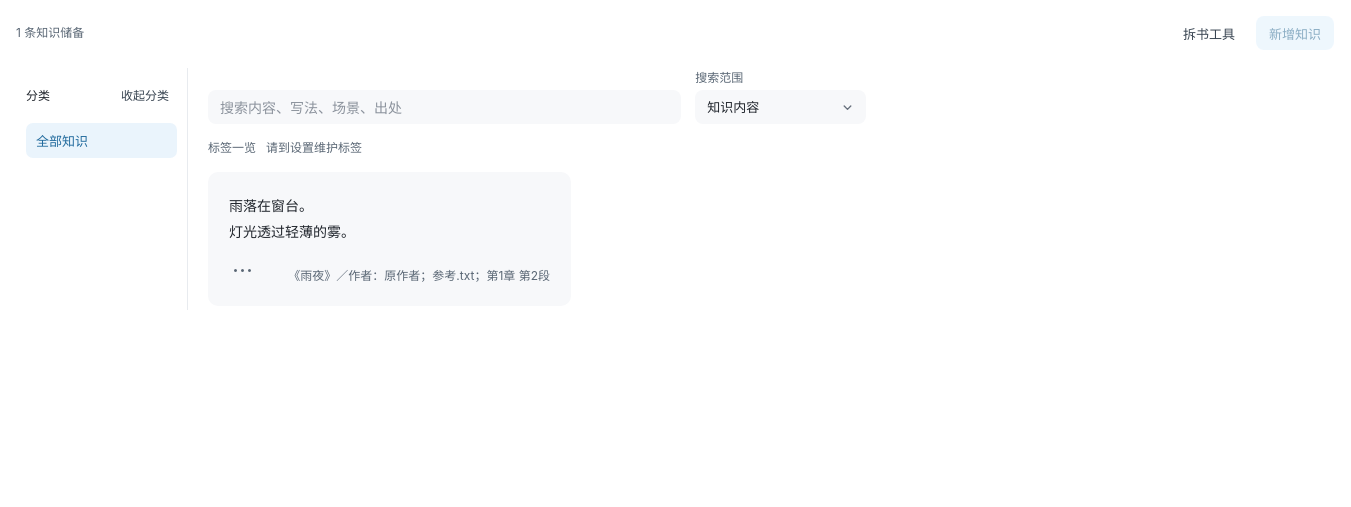
Test: 长出处默认简洁、校验信息展开后完整呈现，操作区保留不压缩及换行规则
Check: the text "《雨夜》／作者：原作者；参考.txt；第1章 第2段" is shown, box [269, 266, 550, 285]
Click the button with aria-label "展开知识".
click(271, 206)  # box [229, 193, 550, 245]
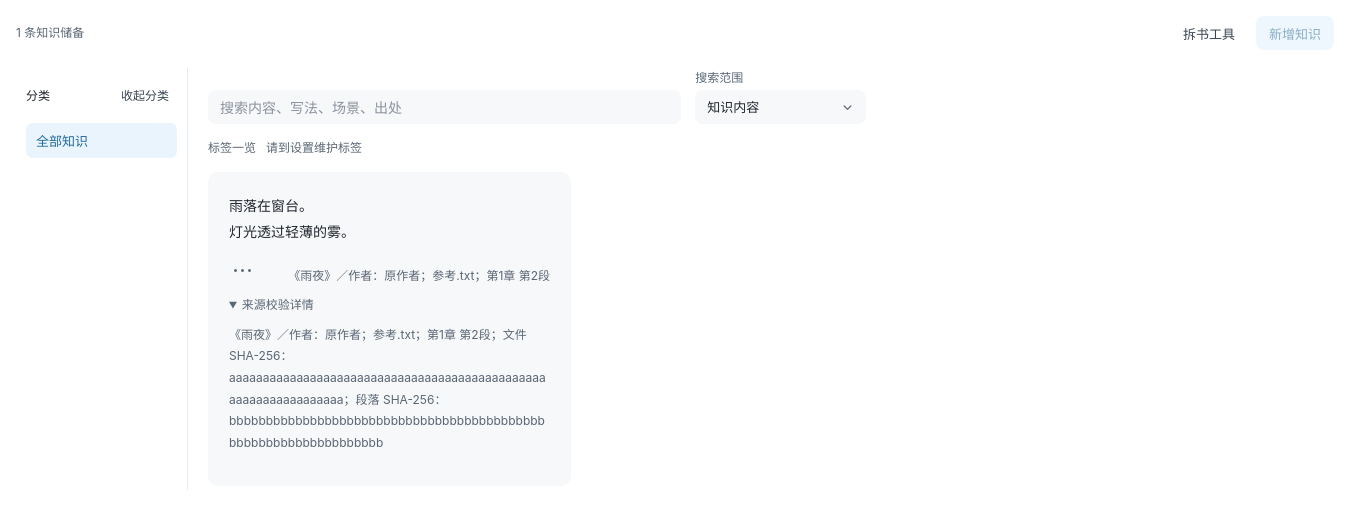
Click the heading named "知识操作：".
click(243, 271)  # box [232, 260, 254, 281]
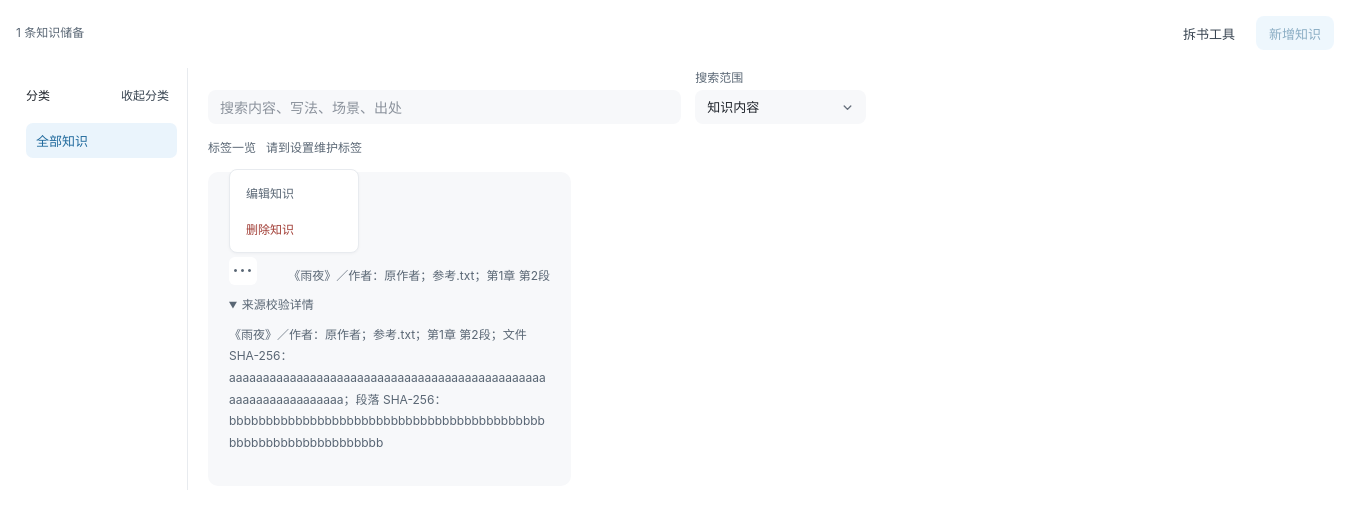
Check: the button "编辑知识" is shown, box [236, 176, 352, 210]
